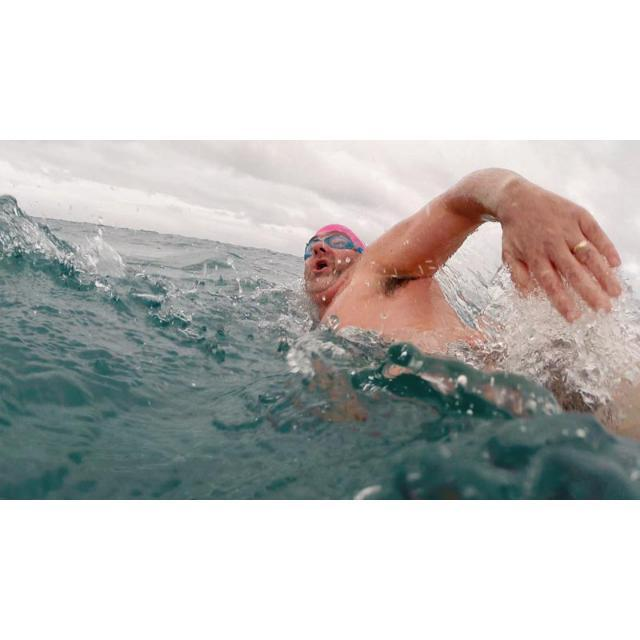human: (300, 166, 625, 362)
